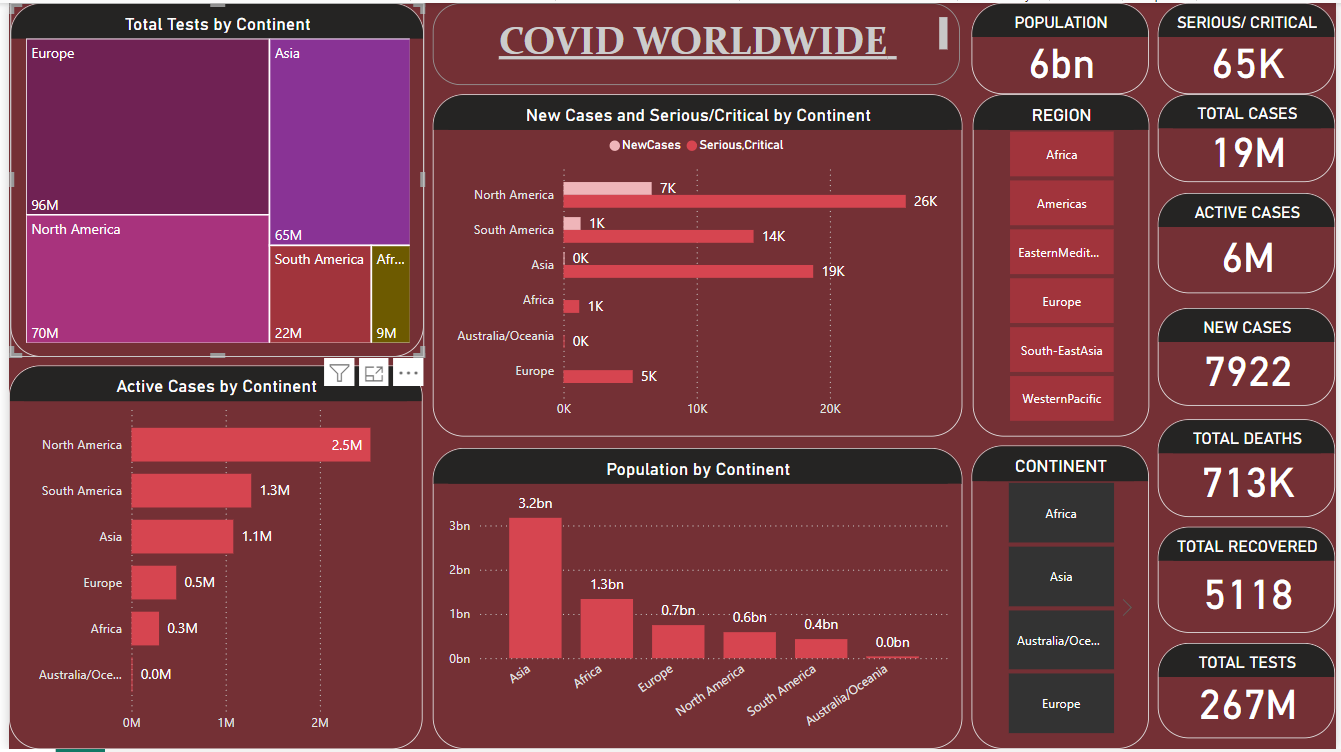

This screenshot's page, from the dashboard's own definition file:
{"tool":"powerbi","page":{"name":"Page 1","canvas":[1280,720],"ordinal":0},"visuals":[{"type":"textbox","box":[408.8,0,508.9,79.6],"z":0},{"type":"card","title":"ACTIVE CASES","fields":{"Values":["Sum(worldometer_data.ActiveCases)"]},"box":[1108.3,183.3,171.3,96.5],"z":1000},{"type":"card","title":"TOTAL CASES","fields":{"Values":["Sum(worldometer_data.TotalCases)"]},"box":[1108.3,88,171.3,84.4],"z":2000},{"type":"card","title":"NEW CASES","fields":{"Values":["Sum(worldometer_data.NewCases)"]},"box":[1108.3,294.3,171.3,94.1],"z":3000},{"type":"card","title":"TOTAL DEATHS","fields":{"Values":["Sum(worldometer_data.TotalDeaths)"]},"box":[1108.3,401.6,171.3,94.1],"z":4000},{"type":"card","title":"TOTAL RECOVERED","fields":{"Values":["Sum(worldometer_data.NewRecovered)"]},"box":[1108.3,505.3,171.3,102.5],"z":5000},{"type":"card","title":"TOTAL TESTS","fields":{"Values":["Sum(worldometer_data.TotalTests)"]},"box":[1108.3,617.5,171.3,91.7],"z":6000},{"type":"clusteredBarChart","title":"Active Cases by Continent","fields":{"Category":["worldometer_data.Continent"],"Y":["Sum(worldometer_data.ActiveCases)"]},"box":[0,349.7,399.2,370.3],"z":7000},{"type":"treemap","title":"Total Tests by Continent","fields":{"Values":["Sum(worldometer_data.TotalTests)"],"Group":["worldometer_data.Continent"]},"box":[1.2,0,399.2,341.3],"z":8000},{"type":"card","title":"POPULATION","fields":{"Values":["Sum(worldometer_data.Population)"]},"box":[928.6,0,171.3,88],"z":9000},{"type":"columnChart","fields":{"Y":["Sum(worldometer_data.Population)"],"Category":["worldometer_data.Continent"]},"box":[408.8,429.3,511.4,290.7],"z":10000},{"type":"slicer","title":"CONTINENT","fields":{"Values":["worldometer_data.Continent"]},"box":[928.6,426.9,171.3,293.1],"z":11000},{"type":"card","title":"SERIOUS/ CRITICAL","fields":{"Values":["Sum(worldometer_data.Serious,Critical)"]},"box":[1108.3,0,171.3,88],"z":12000},{"type":"clusteredBarChart","title":"New Cases and Serious/Critical by Continent","fields":{"Category":["worldometer_data.Continent"],"Y":["Sum(worldometer_data.NewCases)","Sum(worldometer_data.Serious,Critical)"]},"box":[408.8,88,511.4,330.5],"z":13000},{"type":"slicer","title":"REGION","fields":{"Values":["worldometer_data.WHO Region"]},"box":[929.8,88,170.1,330.5],"z":14000}]}

Visuals, with their boxes in screenshot pixels (x1, y1, x2, y2), scaled from the page's 1280x720 canvas onto the 1341x752 screenshot:
textbox: select_region(428, 0, 961, 83)
"ACTIVE CASES" card: select_region(1161, 191, 1340, 292)
"TOTAL CASES" card: select_region(1161, 92, 1340, 180)
"NEW CASES" card: select_region(1161, 307, 1340, 406)
"TOTAL DEATHS" card: select_region(1161, 419, 1340, 518)
"TOTAL RECOVERED" card: select_region(1161, 528, 1340, 635)
"TOTAL TESTS" card: select_region(1161, 645, 1340, 741)
"Active Cases by Continent" clusteredBarChart: select_region(0, 365, 418, 751)
"Total Tests by Continent" treemap: select_region(1, 0, 419, 356)
"POPULATION" card: select_region(973, 0, 1152, 92)
columnChart - Sum(worldometer_data.Population) x worldometer_data.Continent: select_region(428, 448, 964, 751)
"CONTINENT" slicer: select_region(973, 446, 1152, 751)
"SERIOUS/ CRITICAL" card: select_region(1161, 0, 1340, 92)
"New Cases and Serious/Critical by Continent" clusteredBarChart: select_region(428, 92, 964, 437)
"REGION" slicer: select_region(974, 92, 1152, 437)
